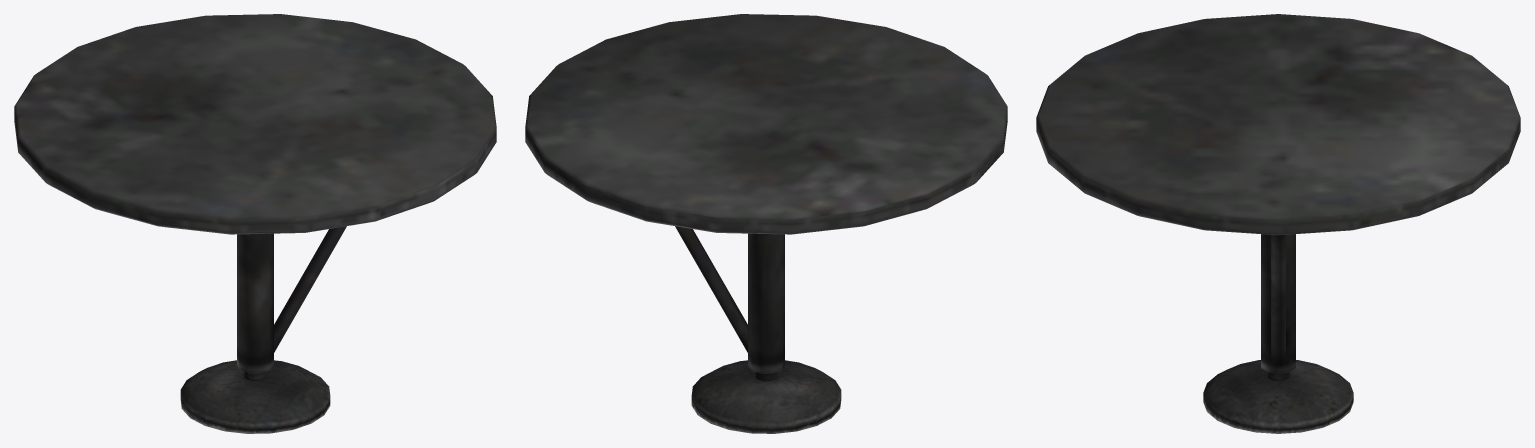
Rendered from sprinkler.dae.
3 renders of one model, left to right at view 1: azimuth 30°, elevation 25°; view 2: azimuth 150°, elevation 25°; view 3: azimuth 270°, elevation 25°, orthographic.
Parts seen in each view (by area): view 1: polySurface33; view 2: polySurface33; view 3: polySurface33.
Boxes of the visible parts, <box> form: polySurface33: <box>14,14,496,433</box>; polySurface33: <box>525,14,1007,433</box>; polySurface33: <box>1036,14,1520,433</box>.
Size of the model in its own units: 0.459 by 0.3002 by 0.459.
